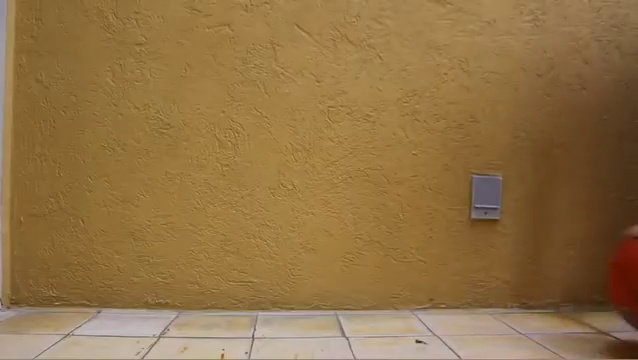ball: (605, 224, 638, 340)
